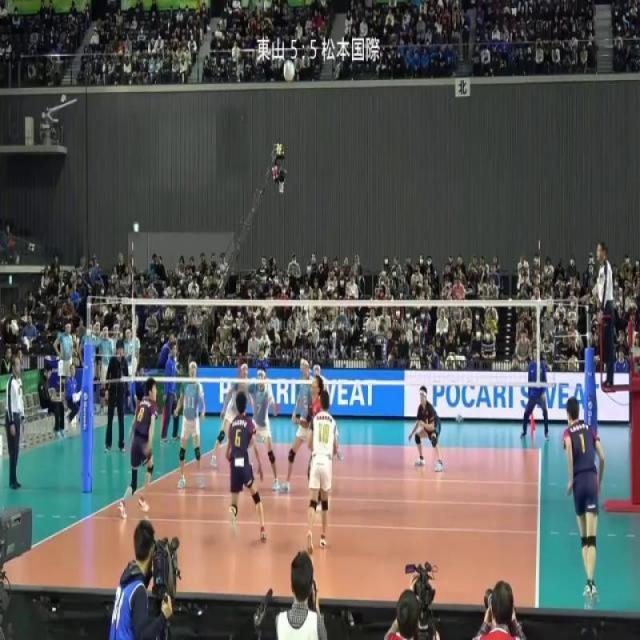volleyball: (282, 59, 296, 82)
